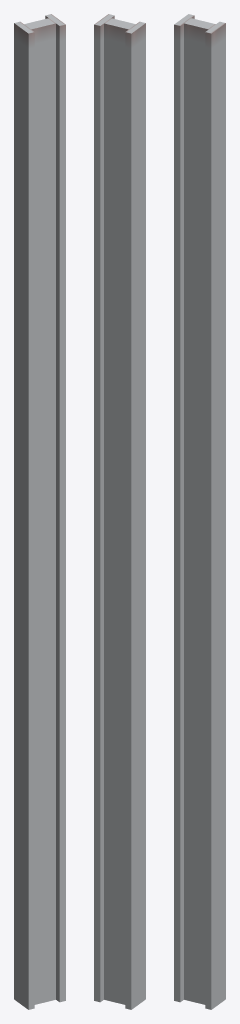
Rendered from column_2.obj.
3 renders of one model, left to right at view 1: azimuth 30°, elevation 25°; view 2: azimuth 150°, elevation 25°; view 3: azimuth 330°, elevation 25°, orthographic.
Visible parts, largest first — view 1: catenary_anti; view 2: catenary_anti; view 3: catenary_anti.
Part boxes in pixels (box(x1,y1,x2,y2)): catenary_anti: box(14, 14, 65, 1009); catenary_anti: box(94, 14, 145, 1009); catenary_anti: box(174, 14, 225, 1009).
Size of the model in its own units: 0.375 by 9.37 by 0.25.
1 material, 1 textured.
